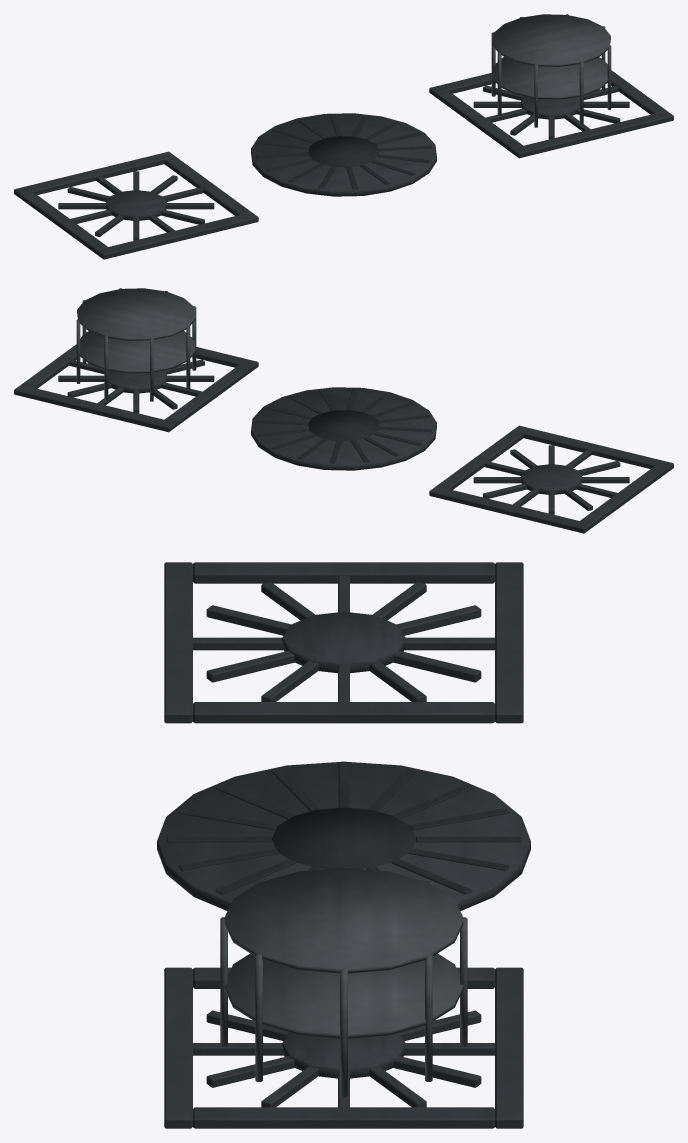
File: tree_grate.glb
The picture shows the model from 3 angles, top to bottom: view 1: azimuth 30°, elevation 25°; view 2: azimuth 150°, elevation 25°; view 3: azimuth 270°, elevation 25°; orthographic projection. The views are drawn at different scales.
Visible parts, largest first — view 1: tree_grate_v3, tree_grate_v2, tree_grate_v1; view 2: tree_grate_v3, tree_grate_v2, tree_grate_v1; view 3: tree_grate_v3, tree_grate_v1, tree_grate_v2.
Boxes of the visible parts, left/top/right/bottom form: tree_grate_v3: left=429, top=14, right=673, bottom=158; tree_grate_v2: left=251, top=113, right=436, bottom=196; tree_grate_v1: left=14, top=151, right=258, bottom=259; tree_grate_v3: left=14, top=288, right=258, bottom=432; tree_grate_v2: left=251, top=387, right=436, bottom=470; tree_grate_v1: left=429, top=425, right=673, bottom=533; tree_grate_v3: left=164, top=866, right=523, bottom=1128; tree_grate_v1: left=164, top=562, right=523, bottom=723; tree_grate_v2: left=157, top=761, right=530, bottom=910.
Size of the model in its own units: 5.5 by 0.632 by 1.56.
2 materials, 2 textured.
